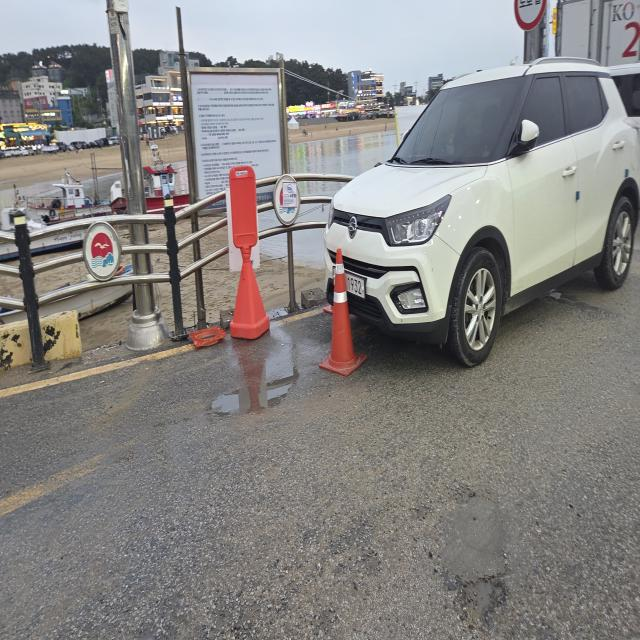car: (309, 31, 640, 398)
